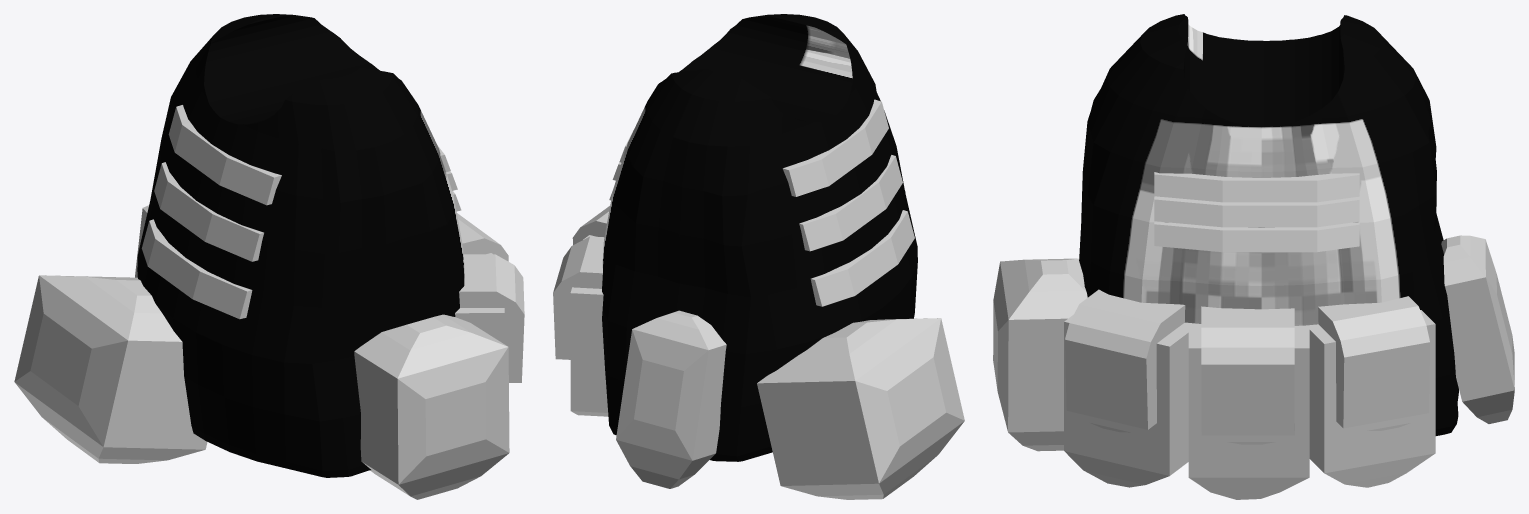
Rendered from Tac Vest (2).fbx.
3 views of the same model, side by side, from view 1: azimuth 30°, elevation 25°; view 2: azimuth 150°, elevation 25°; view 3: azimuth 270°, elevation 25° (orthographic). The views are drawn at different scales.
Parts seen in each view (by area): view 1: Vest body, Cube.002, Cube.004, Pouch, Line 1, Line 3, Line 2, Pouch.001; view 2: Vest body, Cube.002, Cube.003, Pouch.002, Line 1, Line 3, Line 2, Pouch.001; view 3: Vest body, Pouch.001, Pouch, Pouch.002, Cube.004, Cube.003, Line 1.001, Line 2.001, Line 3.001.
Boxes of the visible parts, <box> form: Vest body: <box>137,14,464,477</box>; Cube.002: <box>14,275,207,463</box>; Cube.004: <box>354,314,509,499</box>; Pouch: <box>455,254,524,382</box>; Line 1: <box>168,105,281,205</box>; Line 3: <box>141,219,252,319</box>; Line 2: <box>154,162,263,261</box>; Pouch.001: <box>457,213,508,261</box>; Vest body: <box>602,14,917,461</box>; Cube.002: <box>757,318,964,499</box>; Cube.003: <box>616,310,726,488</box>; Pouch.002: <box>553,236,608,416</box>; Line 1: <box>782,99,888,196</box>; Line 3: <box>810,210,914,306</box>; Line 2: <box>799,155,902,251</box>; Pouch.001: <box>572,206,609,244</box>; Vest body: <box>1079,14,1458,435</box>; Pouch.001: <box>1188,306,1309,499</box>; Pouch: <box>1064,289,1188,487</box>; Pouch.002: <box>1306,296,1435,487</box>; Cube.004: <box>993,258,1087,451</box>; Cube.003: <box>1441,235,1514,423</box>; Line 1.001: <box>1154,172,1359,202</box>; Line 2.001: <box>1154,196,1359,227</box>; Line 3.001: <box>1154,222,1359,252</box>.
Size of the model in its own units: 93.4 by 91.54 by 103.
